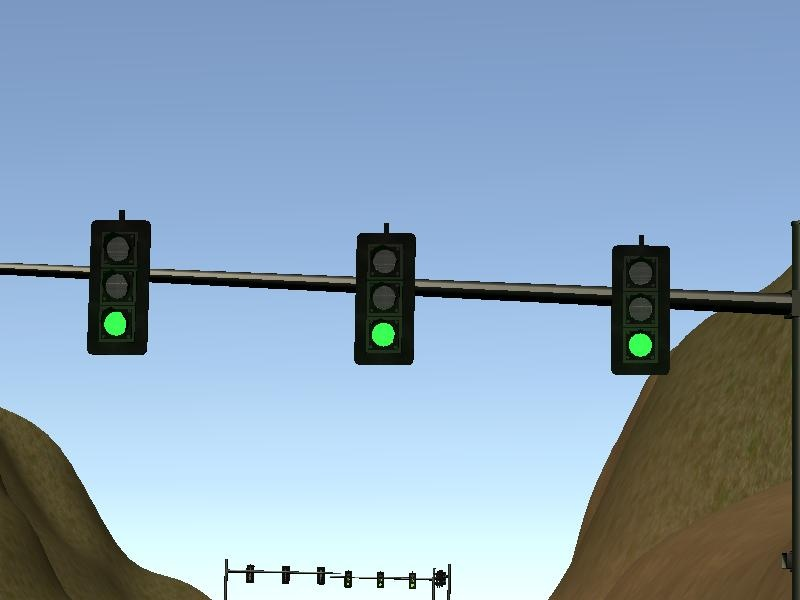GREEN: (87, 221, 151, 354), (352, 233, 416, 364), (610, 244, 670, 375)
